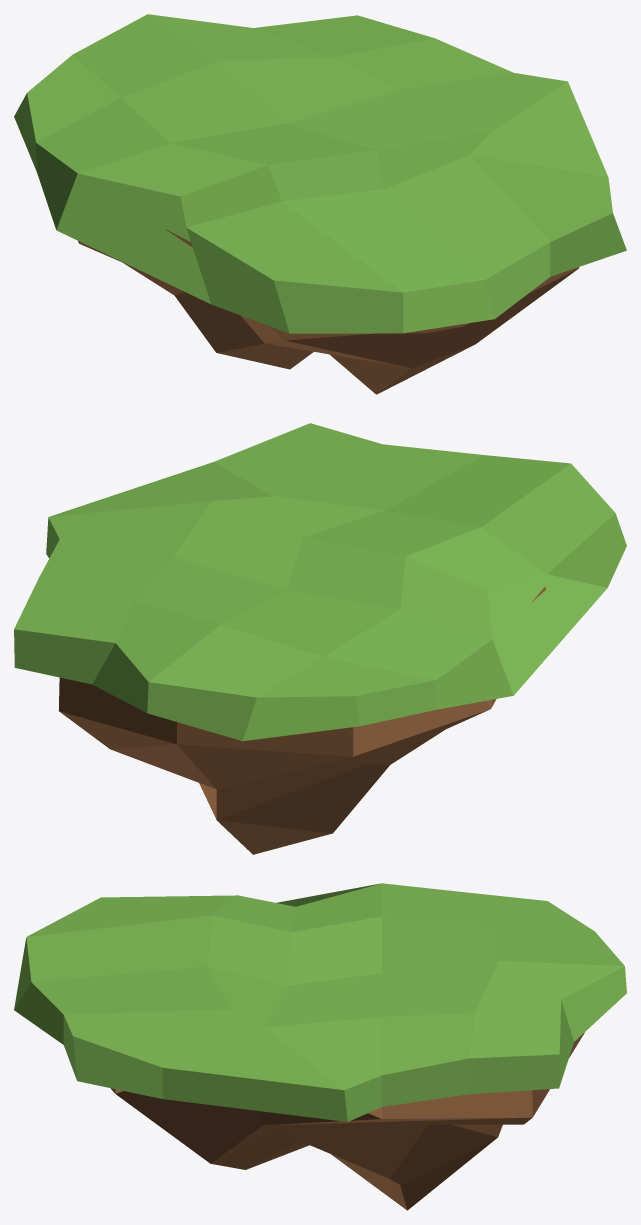
File: Ground 2.fbx
3 views of the same model, one above another, from view 1: azimuth 30°, elevation 25°; view 2: azimuth 150°, elevation 25°; view 3: azimuth 270°, elevation 25° (orthographic). The views are drawn at different scales.
Visible parts, largest first — view 1: Cubo.003, Cubo.002; view 2: Cubo.003, Cubo.002; view 3: Cubo.003, Cubo.002.
Part boxes in pixels (left/top/right/bottom): Cubo.003: left=14, top=14, right=626, bottom=333; Cubo.002: left=78, top=229, right=579, bottom=394; Cubo.003: left=14, top=423, right=626, bottom=741; Cubo.002: left=58, top=586, right=546, bottom=854; Cubo.003: left=14, top=883, right=626, bottom=1121; Cubo.002: left=111, top=1032, right=584, bottom=1210.
Size of the model in its own units: 333 by 180 by 410.
